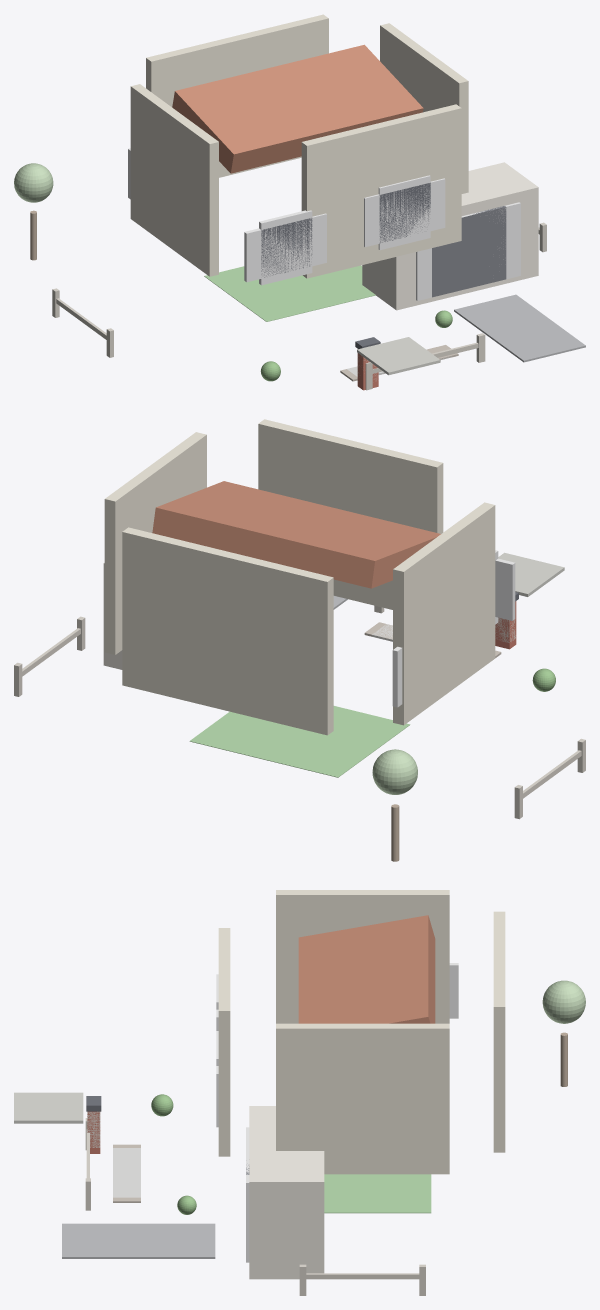
File: BUILDING_HOUSE_SUBURBAN_BRICK_001_LOD_MAP.glb
3 renders of one model, top to bottom at view 1: azimuth 30°, elevation 25°; view 2: azimuth 150°, elevation 25°; view 3: azimuth 270°, elevation 25°, orthographic. The views are drawn at different scales.
Parts seen in each view (by area): view 1: MOD_ROOF_TILE_STANDARD_001_gable_tile_roof_ROOF.002, MOD_WALL_BRICK_SUBURBAN_001_cream_brick_wall_WALL.011, MOD_WALL_BRICK_SUBURBAN_001_cream_brick_wall_WALL.008, MOD_WALL_BRICK_SUBURBAN_001_cream_brick_wall_WALL.010, MOD_WINDOW_RESIDENTIAL_STANDARD_001_double_standard_window_. (×2), MOD_GARAGE_RESIDENTIAL_STANDARD_001_double_garage_front_SHE, MOD_GROUND_GRASS_STANDARD_001_MAP_PATCH, MOD_WALL_BRICK_SUBURBAN_001_cream_brick_wall_WALL.009, MOD_GARAGE_RESIDENTIAL_STANDARD_001_recessed_garage_front_DO, MOD_DRIVEWAY_STANDARD_SINGLE_001_MAP_SURFACE, MOD_WINDOW_RESIDENTIAL_STANDARD_001_dark_frame_standard_win. (×2), MOD_WINDOW_RESIDENTIAL_STANDARD_001_tall_narrow_window_FRAM. (×2) (+4 smaller); view 2: MOD_WALL_BRICK_SUBURBAN_001_cream_brick_wall_WALL.010, MOD_ROOF_TILE_STANDARD_001_gable_tile_roof_ROOF.002, MOD_WALL_BRICK_SUBURBAN_001_cream_brick_wall_WALL.008, MOD_WALL_BRICK_SUBURBAN_001_cream_brick_wall_WALL.011, MOD_GROUND_GRASS_STANDARD_001_MAP_PATCH, MOD_WALL_BRICK_SUBURBAN_001_cream_brick_wall_WALL.009, MOD_WINDOW_RESIDENTIAL_STANDARD_001_double_standard_window_. (×2), MOD_TREE_EUCALYPTUS_STANDARD_001_MAP_CANOPY, MOD_PATH_STANDARD_001_MAP_SURFACE, MOD_LETTERBOX_STANDARD_001_brick_pillar_letterbox_BODY.002; view 3: MOD_WALL_BRICK_SUBURBAN_001_cream_brick_wall_WALL.009, MOD_ROOF_TILE_STANDARD_001_gable_tile_roof_ROOF.002, MOD_GARAGE_RESIDENTIAL_STANDARD_001_double_garage_front_SHE, MOD_WALL_BRICK_SUBURBAN_001_cream_brick_wall_WALL.008, MOD_DRIVEWAY_STANDARD_SINGLE_001_MAP_SURFACE, MOD_GROUND_GRASS_STANDARD_001_MAP_PATCH, MOD_WALL_BRICK_SUBURBAN_001_cream_brick_wall_WALL.010, MOD_WALL_BRICK_SUBURBAN_001_cream_brick_wall_WALL.011, MOD_PATH_STANDARD_001_MAP_SURFACE, MOD_GARAGE_RESIDENTIAL_STANDARD_001_recessed_garage_front_SH, MOD_TREE_EUCALYPTUS_STANDARD_001_MAP_CANOPY, MOD_ENTRY_PATH_SUBURBAN_001_driveway_to_porch_entry_PATH.002 (+3 smaller).
Boxes of the visible parts, x1,y1,x2,y2 form: MOD_ROOF_TILE_STANDARD_001_gable_tile_roof_ROOF.002: (172,44,423,173); MOD_WALL_BRICK_SUBURBAN_001_cream_brick_wall_WALL.011: (301,104,461,278); MOD_WALL_BRICK_SUBURBAN_001_cream_brick_wall_WALL.008: (130,84,218,276); MOD_WALL_BRICK_SUBURBAN_001_cream_brick_wall_WALL.010: (146,14,328,177); MOD_WINDOW_RESIDENTIAL_STANDARD_001_double_standard_window_. (×2): (244,178,445,282); MOD_GARAGE_RESIDENTIAL_STANDARD_001_double_garage_front_SHE: (362,162,538,310); MOD_GROUND_GRASS_STANDARD_001_MAP_PATCH: (204,265,375,321); MOD_WALL_BRICK_SUBURBAN_001_cream_brick_wall_WALL.009: (380,23,468,193); MOD_GARAGE_RESIDENTIAL_STANDARD_001_recessed_garage_front_DO: (432,206,506,297); MOD_DRIVEWAY_STANDARD_SINGLE_001_MAP_SURFACE: (454,294,585,362); MOD_WINDOW_RESIDENTIAL_STANDARD_001_dark_frame_standard_win. (×2): (261,182,430,277); MOD_WINDOW_RESIDENTIAL_STANDARD_001_tall_narrow_window_FRAM. (×2): (259,175,430,285); MOD_WALL_BRICK_SUBURBAN_001_cream_brick_wall_WALL.010: (122,527,333,735); MOD_ROOF_TILE_STANDARD_001_gable_tile_roof_ROOF.002: (152,481,440,588); MOD_WALL_BRICK_SUBURBAN_001_cream_brick_wall_WALL.008: (393,502,495,725); MOD_WALL_BRICK_SUBURBAN_001_cream_brick_wall_WALL.011: (258,419,443,609); MOD_GROUND_GRASS_STANDARD_001_MAP_PATCH: (189,706,410,777); MOD_WALL_BRICK_SUBURBAN_001_cream_brick_wall_WALL.009: (104,432,206,654); MOD_WINDOW_RESIDENTIAL_STANDARD_001_double_standard_window_. (×2): (392,558,515,707); MOD_TREE_EUCALYPTUS_STANDARD_001_MAP_CANOPY: (372,749,417,794); MOD_PATH_STANDARD_001_MAP_SURFACE: (498,552,564,596); MOD_LETTERBOX_STANDARD_001_brick_pillar_letterbox_BODY.002: (495,601,516,649); MOD_WALL_BRICK_SUBURBAN_001_cream_brick_wall_WALL.009: (276,1023,449,1174); MOD_ROOF_TILE_STANDARD_001_gable_tile_roof_ROOF.002: (298,915,435,1023); MOD_GARAGE_RESIDENTIAL_STANDARD_001_double_garage_front_SHE: (249,1106,324,1279); MOD_WALL_BRICK_SUBURBAN_001_cream_brick_wall_WALL.008: (276,890,449,1023); MOD_DRIVEWAY_STANDARD_SINGLE_001_MAP_SURFACE: (62,1223,215,1258); MOD_GROUND_GRASS_STANDARD_001_MAP_PATCH: (324,1174,431,1213); MOD_WALL_BRICK_SUBURBAN_001_cream_brick_wall_WALL.010: (493,911,505,1152); MOD_WALL_BRICK_SUBURBAN_001_cream_brick_wall_WALL.011: (218,928,230,1156); MOD_PATH_STANDARD_001_MAP_SURFACE: (14,1092,83,1123); MOD_GARAGE_RESIDENTIAL_STANDARD_001_recessed_garage_front_SH: (249,1116,323,1171); MOD_TREE_EUCALYPTUS_STANDARD_001_MAP_CANOPY: (542,980,585,1023); MOD_ENTRY_PATH_SUBURBAN_001_driveway_to_porch_entry_PATH.002: (113,1148,140,1197).
Bounding box in the file's own units: 10.34 × 4.54 × 10.67.
